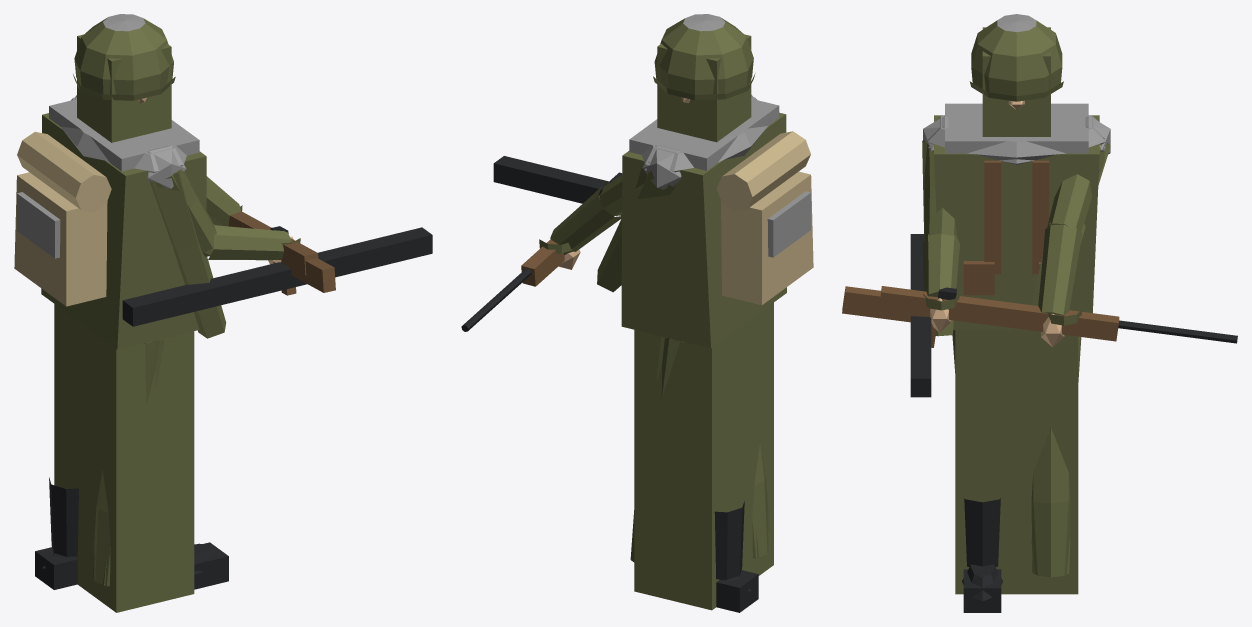
Rendered from meridian_rifleman.glb.
The picture shows the model from 3 angles, left to right: view 1: azimuth 30°, elevation 25°; view 2: azimuth 150°, elevation 25°; view 3: azimuth 270°, elevation 25°; orthographic projection.
Visible parts, largest first — view 1: leg_l (×3), torso (×2), arm_r (×3), head (×2), leg_r (×2), arm_l; view 2: leg_l (×3), torso (×2), head (×2), arm_l (×2), arm_r (×3), leg_r; view 3: leg_l (×2), torso (×3), arm_r (×3), head (×2), arm_l, leg_r (×2).
Part boxes in pixels (left/top/right/bottom): leg_l (×3): left=35, top=304, right=194, bottom=612; torso (×2): left=14, top=97, right=206, bottom=349; arm_r (×3): left=122, top=145, right=432, bottom=338; head (×2): left=73, top=14, right=175, bottom=142; leg_r (×2): left=93, top=338, right=228, bottom=589; arm_l: left=75, top=95, right=242, bottom=226; leg_l (×3): left=630, top=302, right=773, bottom=612; torso (×2): left=621, top=96, right=813, bottom=348; head (×2): left=653, top=14, right=755, bottom=142; arm_l (×2): left=539, top=145, right=681, bottom=292; arm_r (×3): left=461, top=95, right=752, bottom=331; leg_r: left=752, top=442, right=768, bottom=558; leg_l (×2): left=955, top=330, right=1081, bottom=594; torso (×3): left=928, top=103, right=1105, bottom=330; arm_r (×3): left=842, top=115, right=1237, bottom=397; head (×2): left=969, top=14, right=1063, bottom=136; arm_l: left=1038, top=115, right=1110, bottom=347; leg_r (×2): left=952, top=330, right=1002, bottom=612.
Bounding box in the file's own units: 1.15 × 1.78 × 1.16.
